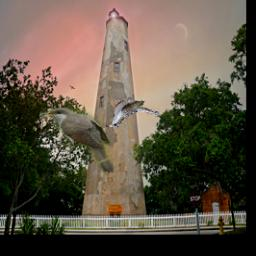Cuckoo: (40, 108, 115, 173), (107, 94, 162, 127)
